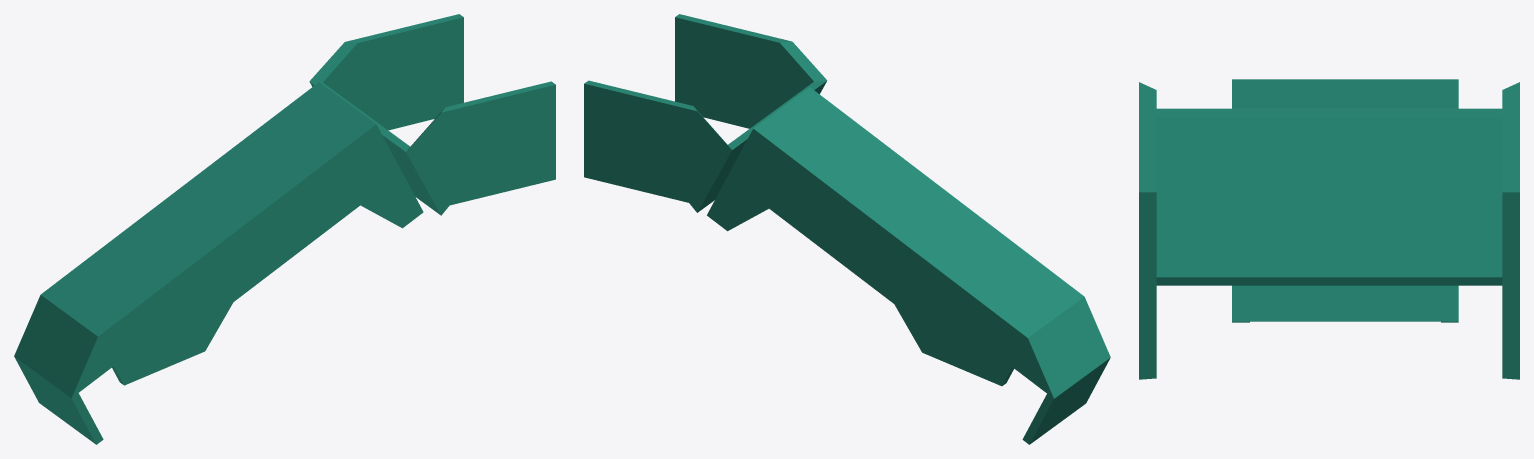
Rendered from right_end2_collision.dae.
The picture shows the model from 3 angles, left to right: view 1: azimuth 30°, elevation 25°; view 2: azimuth 150°, elevation 25°; view 3: azimuth 270°, elevation 25°; orthographic projection. The views are drawn at different scales.
Visible parts, largest first — view 1: right_end2_000; view 2: right_end2_000; view 3: right_end2_000.
Boxes of the visible parts, <box> form: right_end2_000: <box>14,14,555,444</box>; right_end2_000: <box>584,14,1110,444</box>; right_end2_000: <box>1139,79,1519,379</box>.
Size of the model in its own units: 0.1172 by 0.0425 by 0.0659.
